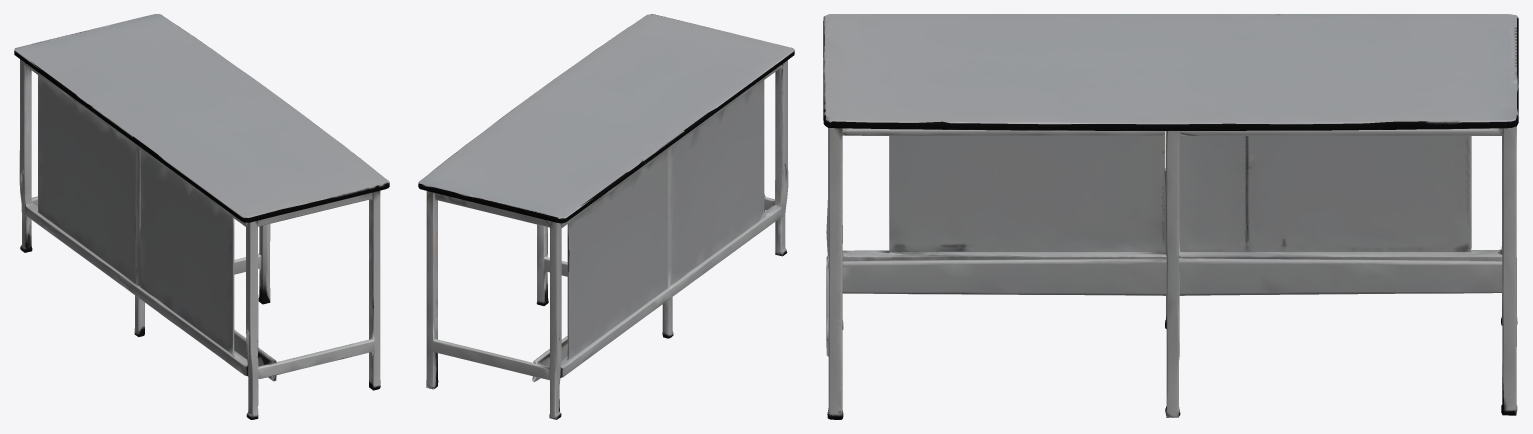
File: tmp_t7cuh3n.glb
3 views of the same model, side by side, from view 1: azimuth 30°, elevation 25°; view 2: azimuth 150°, elevation 25°; view 3: azimuth 270°, elevation 25° (orthographic). The views are drawn at different scales.
Parts seen in each view (by area): view 1: tripo_node_84842c1f-5365-4f4f-8ec5-323872a28162; view 2: tripo_node_84842c1f-5365-4f4f-8ec5-323872a28162; view 3: tripo_node_84842c1f-5365-4f4f-8ec5-323872a28162.
Boxes of the visible parts, x1,y1,x2,y2 form: tripo_node_84842c1f-5365-4f4f-8ec5-323872a28162: (14,14,389,419); tripo_node_84842c1f-5365-4f4f-8ec5-323872a28162: (418,14,794,419); tripo_node_84842c1f-5365-4f4f-8ec5-323872a28162: (823,14,1518,419).
Bounding box in the file's own units: 0.3752 × 0.4861 × 0.9999.
Materials: 1 (1 with a texture image).
